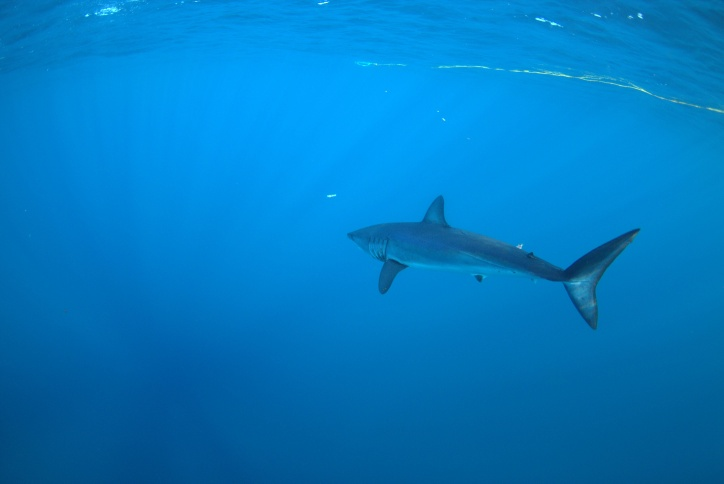Mako: (334, 192, 649, 345)
